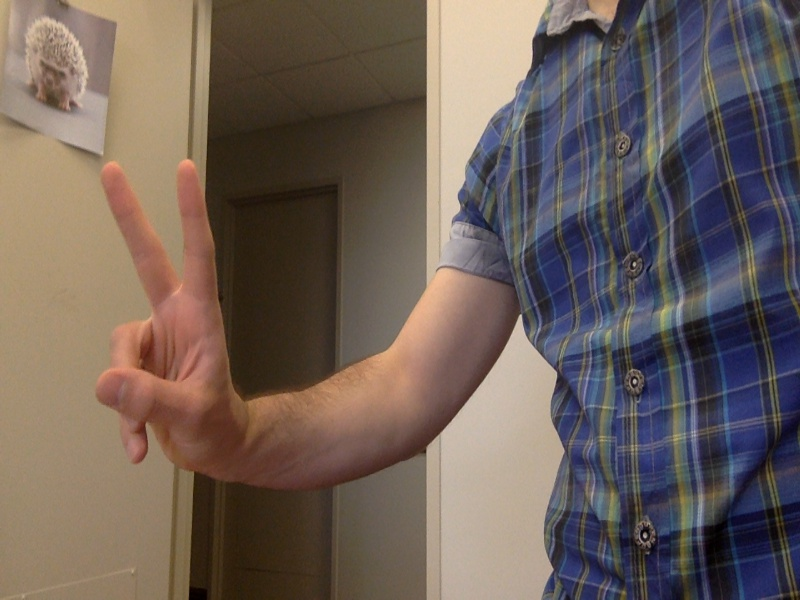2-hand: (91, 158, 245, 488)
